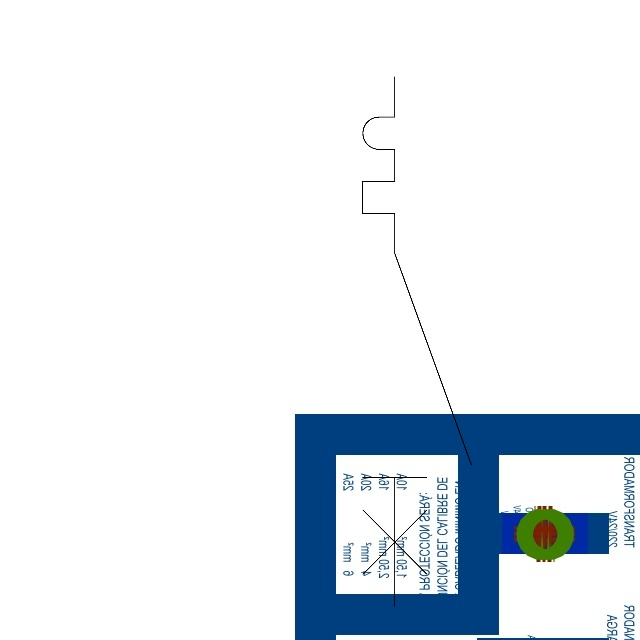interruptor_termomagnetico: (349, 63, 485, 620)
